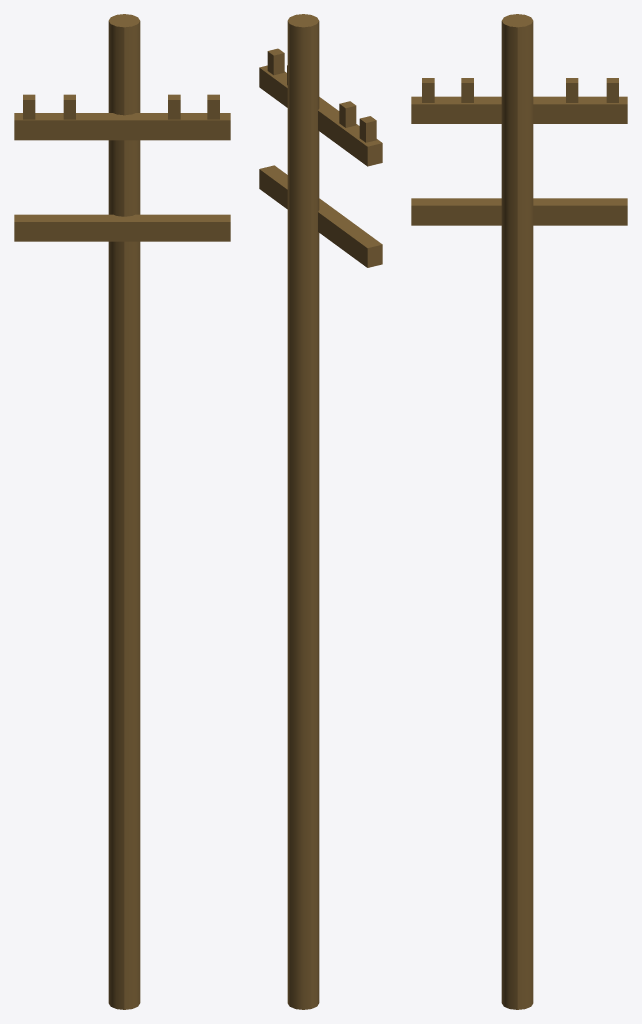
File: power_pole.fbx
The picture shows the model from 3 angles, left to right: view 1: azimuth 90°, elevation 25°; view 2: azimuth 210°, elevation 25°; view 3: azimuth 270°, elevation 25°; orthographic projection.
Parts seen in each view (by area): view 1: Cylinder; view 2: Cylinder; view 3: Cylinder.
Boxes of the visible parts, x1,y1,x2,y2 form: Cylinder: (14, 14, 230, 1009); Cylinder: (259, 14, 382, 1009); Cylinder: (411, 14, 627, 1009).
Size of the model in its own units: 8.08 by 200 by 39.96.
